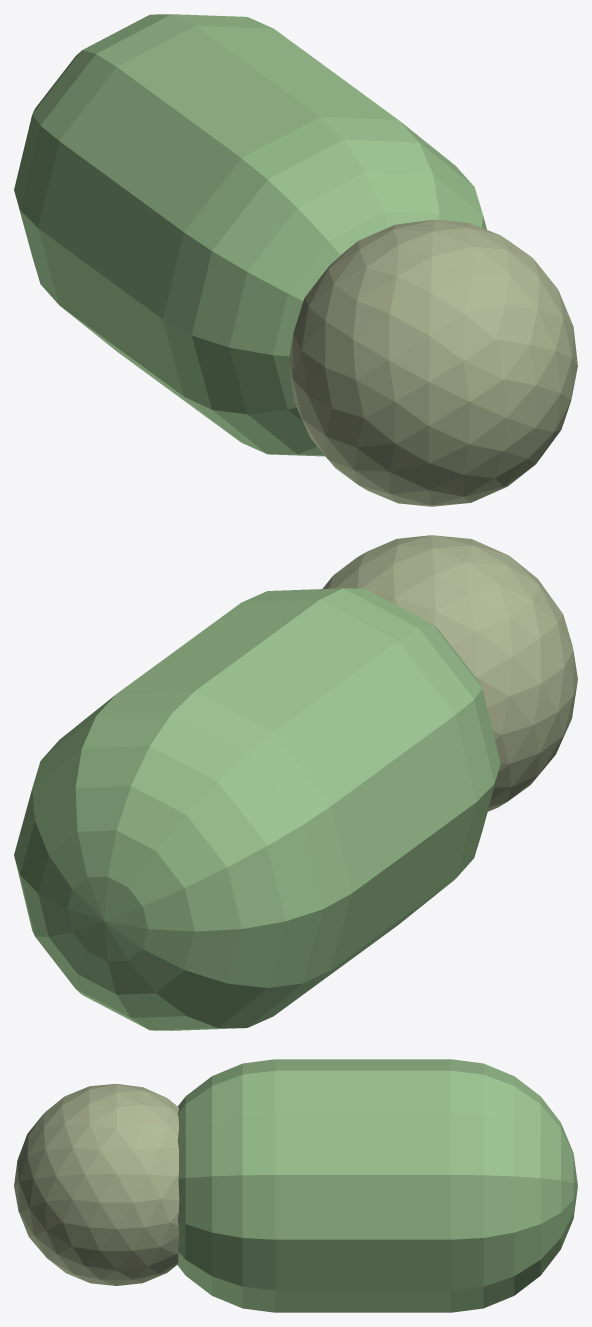
Rendered from zombie.glb.
3 views of the same model, one above another, from view 1: azimuth 30°, elevation 25°; view 2: azimuth 150°, elevation 25°; view 3: azimuth 270°, elevation 25° (orthographic). The views are drawn at different scales.
Visible parts, largest first — view 1: geometry_0; view 2: geometry_0; view 3: geometry_0.
Boxes of the visible parts, x1,y1,x2,y2 form: geometry_0: (14,14,577,506); geometry_0: (14,535,577,1030); geometry_0: (14,1059,577,1312).
Bounding box in the file's own units: 0.8 × 0.8 × 1.77.
